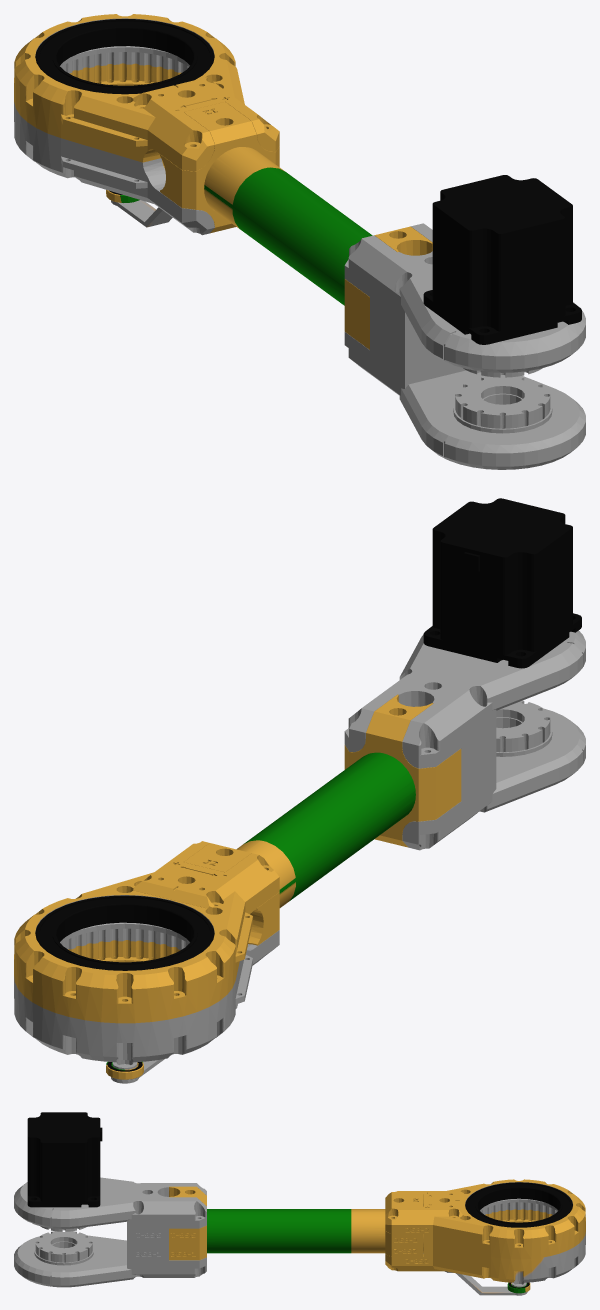
File: bicep.obj
3 views of the same model, one above another, from view 1: azimuth 30°, elevation 25°; view 2: azimuth 150°, elevation 25°; view 3: azimuth 270°, elevation 25° (orthographic). The views are drawn at different scales.
Parts seen in each view (by area): view 1: Bicep; view 2: Bicep; view 3: Bicep.
Part boxes in pixels (bbox=[...]): Bicep: bbox=[14, 14, 585, 469]; Bicep: bbox=[14, 498, 585, 1083]; Bicep: bbox=[14, 1112, 585, 1295].
Bounding box in the file's own units: 10.52 × 14.28 × 44.99.
1 material, 1 textured.
